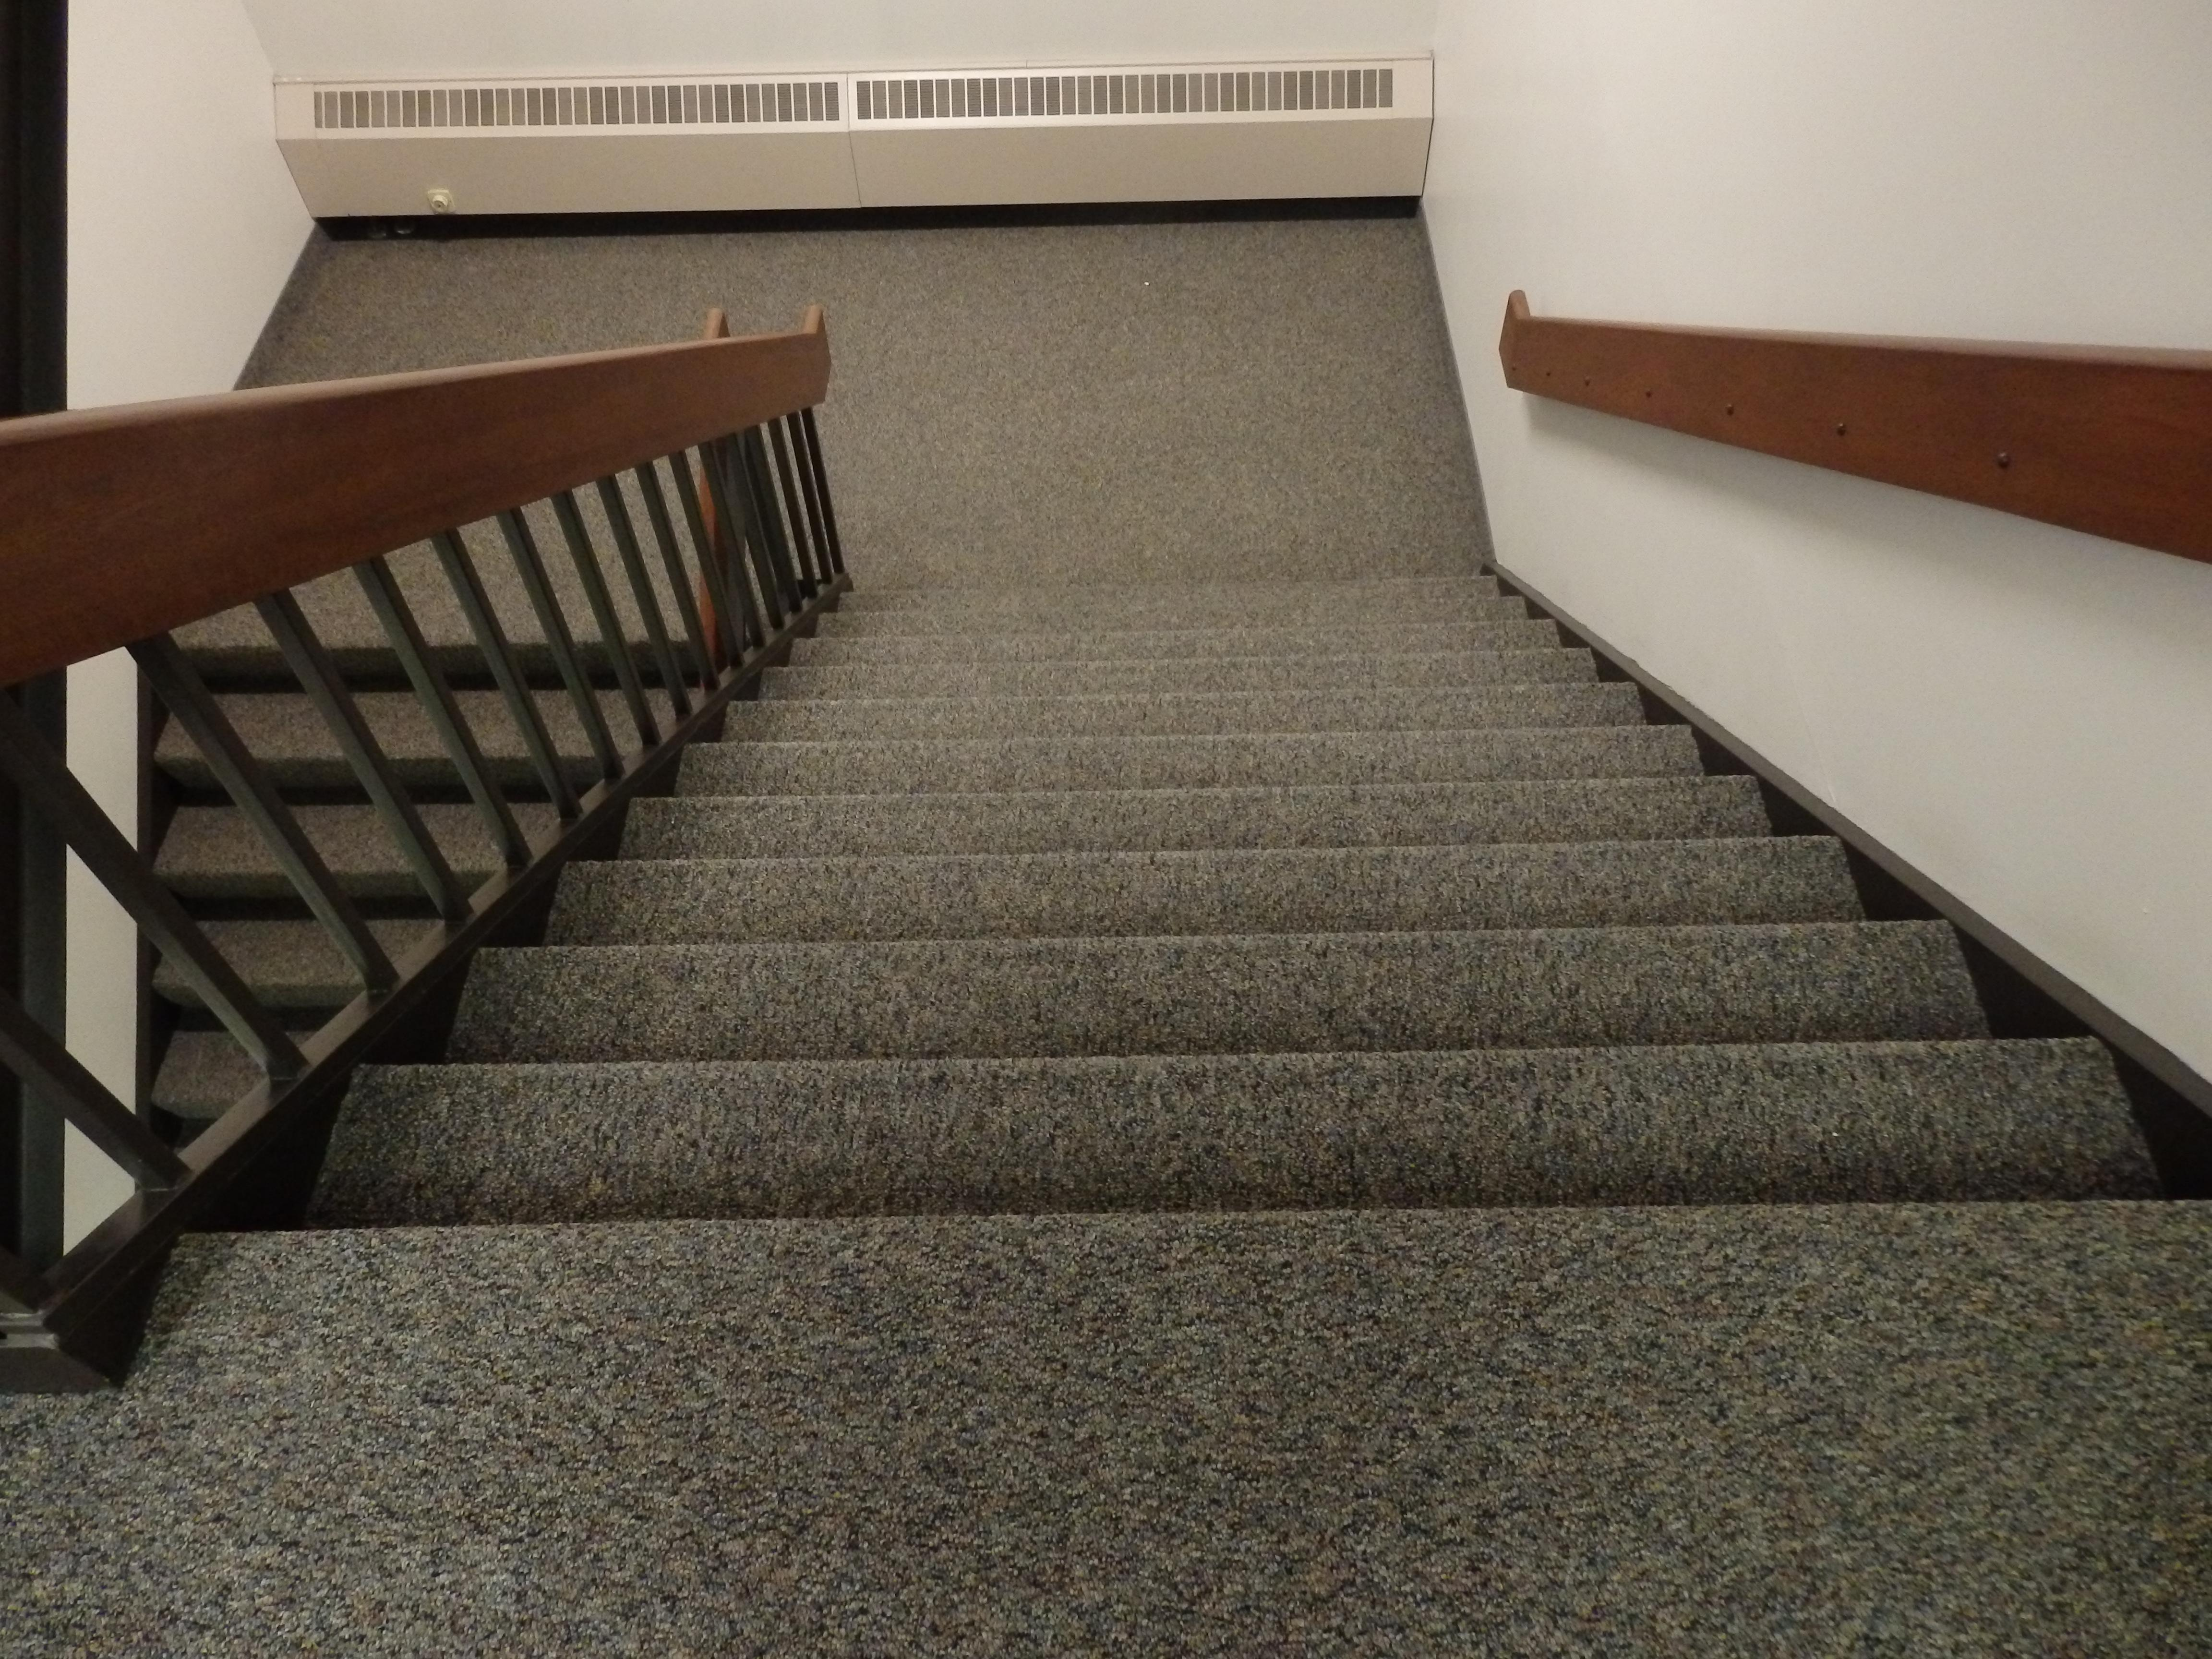stairs_down: (556, 579, 2019, 1276)
